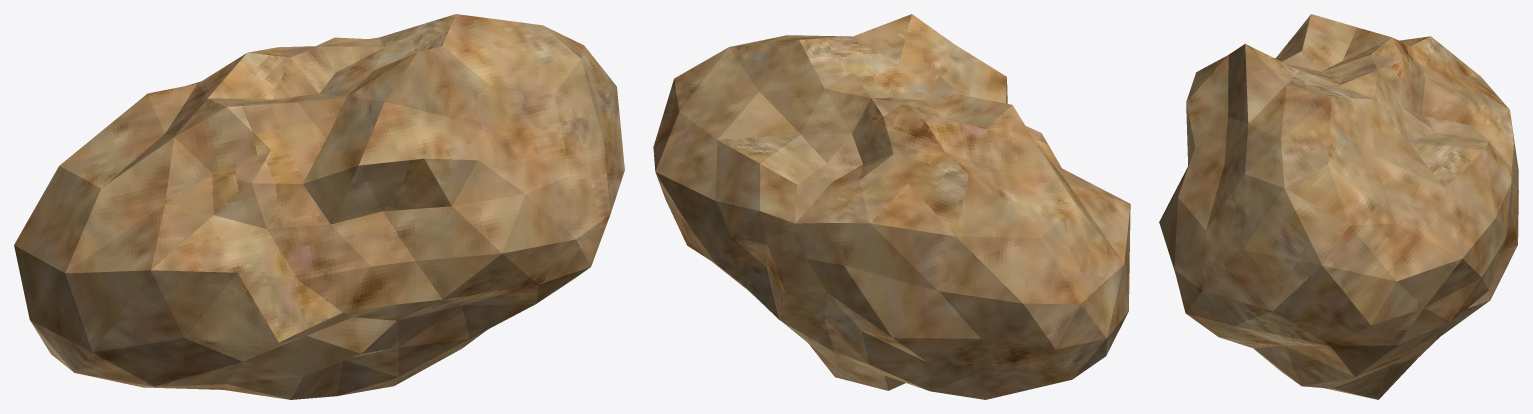
Rendered from asteroids4.glb.
The picture shows the model from 3 angles, left to right: view 1: azimuth 30°, elevation 25°; view 2: azimuth 150°, elevation 25°; view 3: azimuth 270°, elevation 25°; orthographic projection. The views are drawn at different scales.
Visible parts, largest first — view 1: Икосфера.003; view 2: Икосфера.003; view 3: Икосфера.003.
Part boxes in pixels (x1=…): Икосфера.003: x1=14, y1=14, x2=624, y2=399; Икосфера.003: x1=653, y1=14, x2=1130, y2=399; Икосфера.003: x1=1159, y1=14, x2=1518, y2=399.
Size of the model in its own units: 31.61 by 20.83 by 19.51.
Materials: 1 (1 with a texture image).
